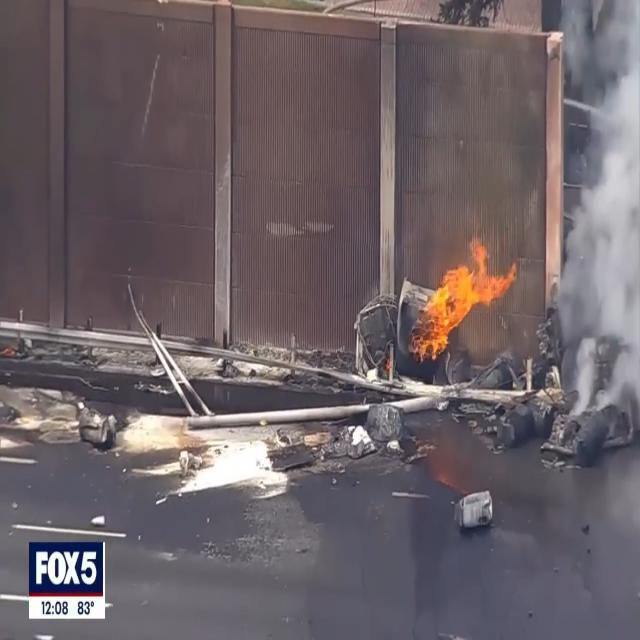fire: (410, 236, 518, 362)
